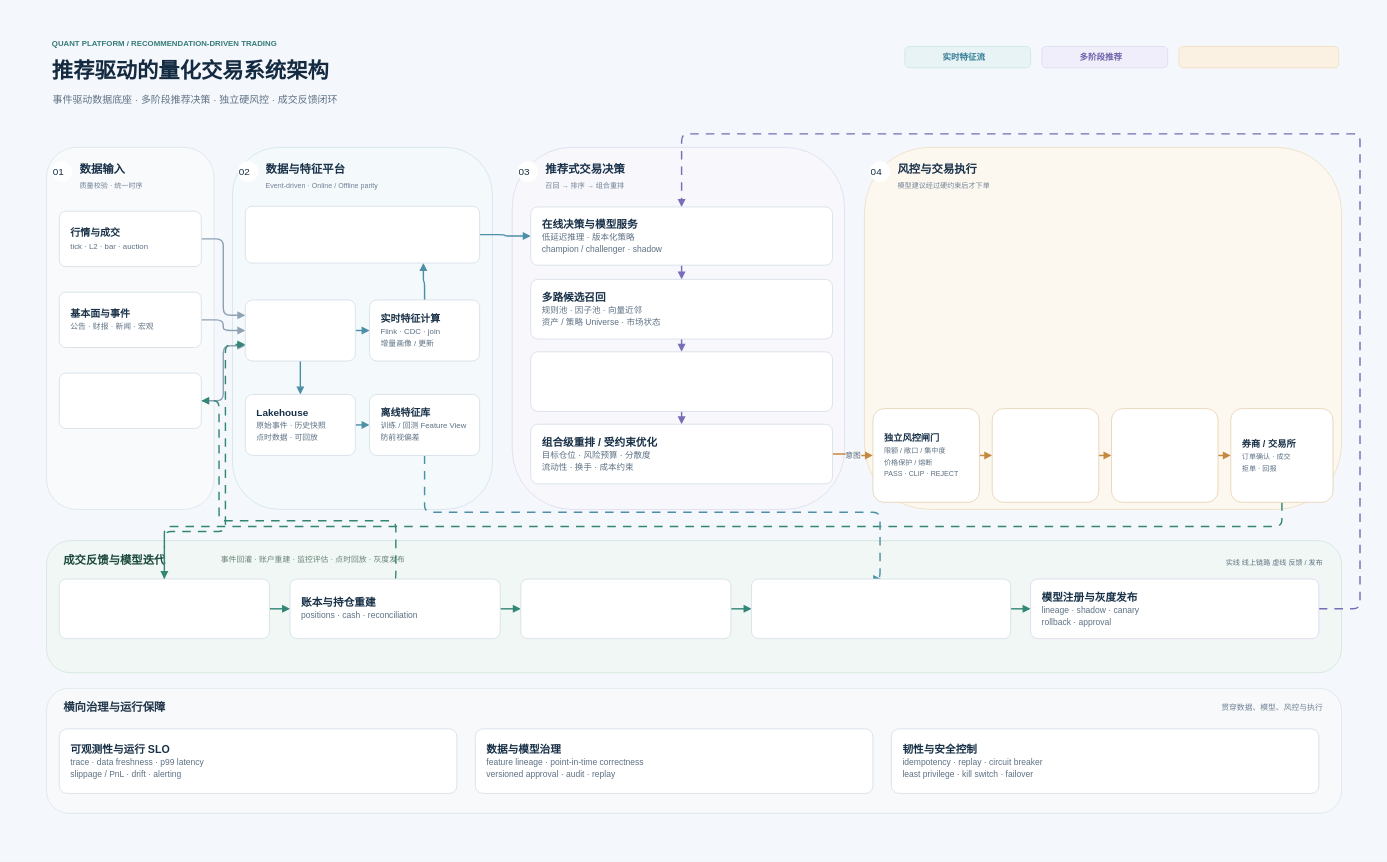
Image size: 1387x862. Some labels were removed from this diagram. The shapes that lost their labels are listed below. From the top down, each one's centre as x and y in pixels, then its label:
At (x=1258, y=57): "独立风控门禁".
At (x=362, y=234): "在线特征库 毫秒级读取 · 最新状态 Online / Offline 一致口径".
At (x=300, y=330): "事件总线 Kafka / Pulsar schema · replay".
At (x=130, y=400): "账户 / 组合状态 持仓 · 现金 · 可用资金".
At (x=681, y=381): "分层排序：粗排 → 精排 Alpha · 置信度 · 风险 · 交易成本 多目标校准 · 可解释打分".
At (x=1045, y=455): "OMS / EMS 订单状态机 · 幂等 撤改单 · 路由".
At (x=1164, y=455): "执行算法 TWAP · VWAP · POV 流动性感知 · 滑点".
At (x=164, y=608): "成交与订单事件 fills · rejects · latency".
At (x=625, y=608): "在线监控与告警 PnL · slippage · drift · SLO".
At (x=881, y=608): "离线评估与训练 PIT replay · walk-forward cost-aware backtest · promotion".
